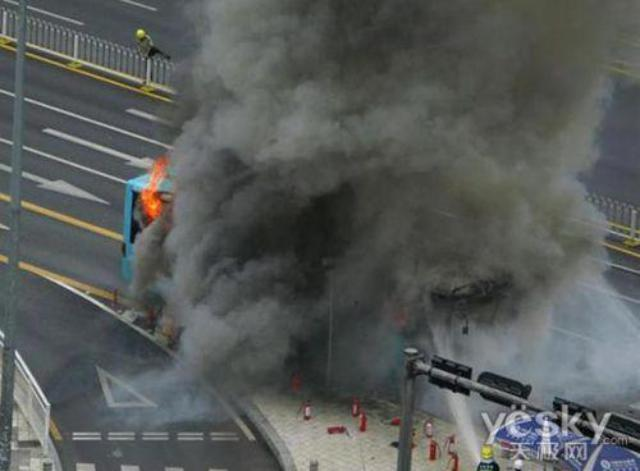smoke: (162, 0, 598, 367)
